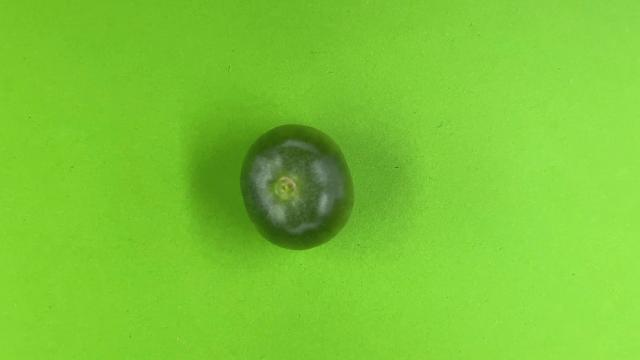Fruit Maturation: (236, 121, 357, 252)
